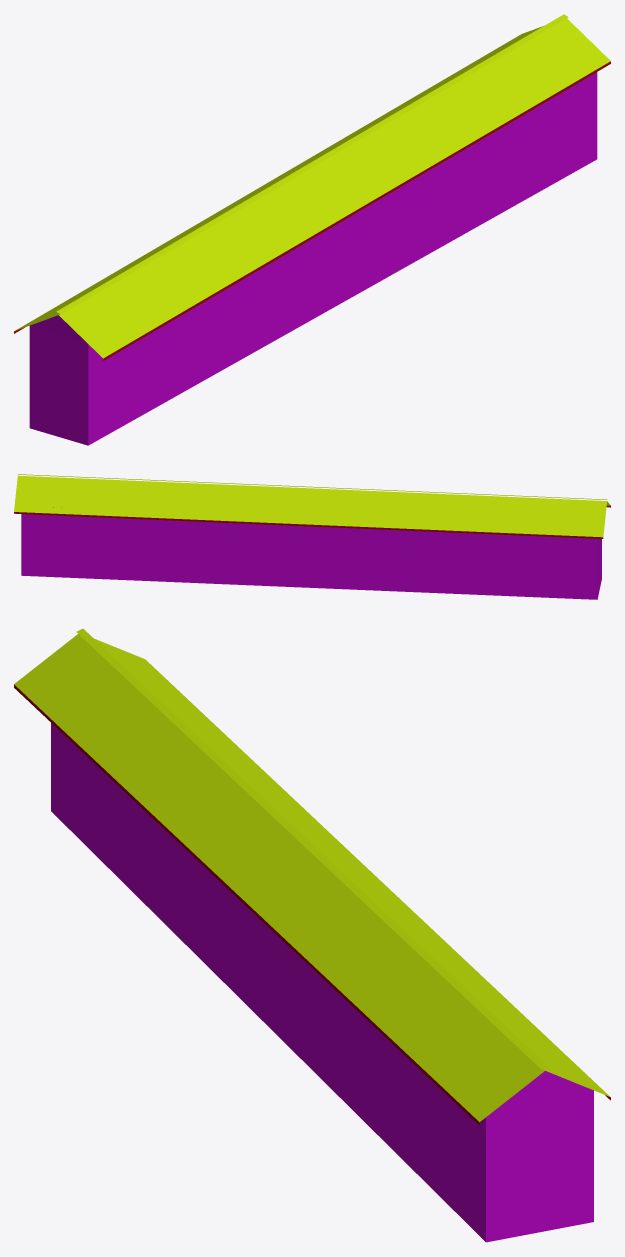
The model's file is bgj_160.glb.
The picture shows the model from 3 angles, top to bottom: view 1: azimuth 30°, elevation 25°; view 2: azimuth 150°, elevation 25°; view 3: azimuth 270°, elevation 25°; orthographic projection. The views are drawn at different scales.
Parts seen in each view (by area): view 1: bgj_160; view 2: bgj_160; view 3: bgj_160.
Part boxes in pixels (<box>): bgj_160: <box>14,14,610,445</box>; bgj_160: <box>14,474,610,599</box>; bgj_160: <box>14,628,610,1242</box>.
Bounding box in the file's own units: 34 × 5.82 × 18.53.
